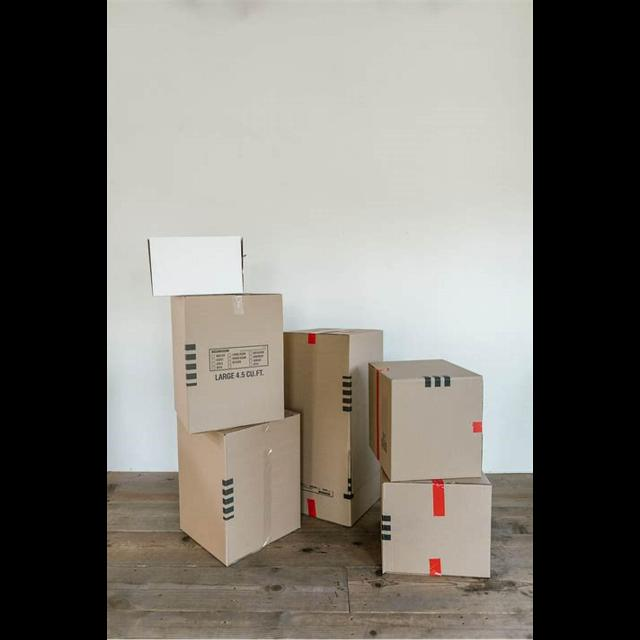papelão: (284, 327, 384, 529), (178, 409, 302, 569), (169, 292, 285, 434), (366, 357, 486, 481), (381, 469, 494, 579)
